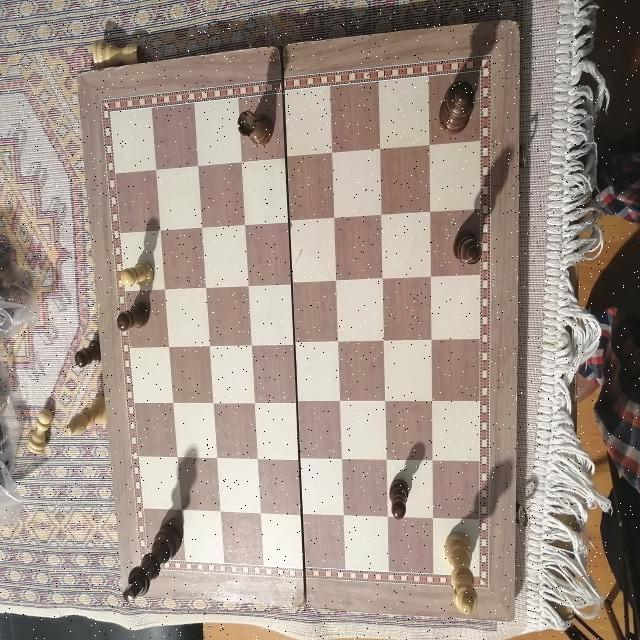corners: (76, 60, 96, 96), (503, 608, 525, 628), (504, 13, 524, 31)
